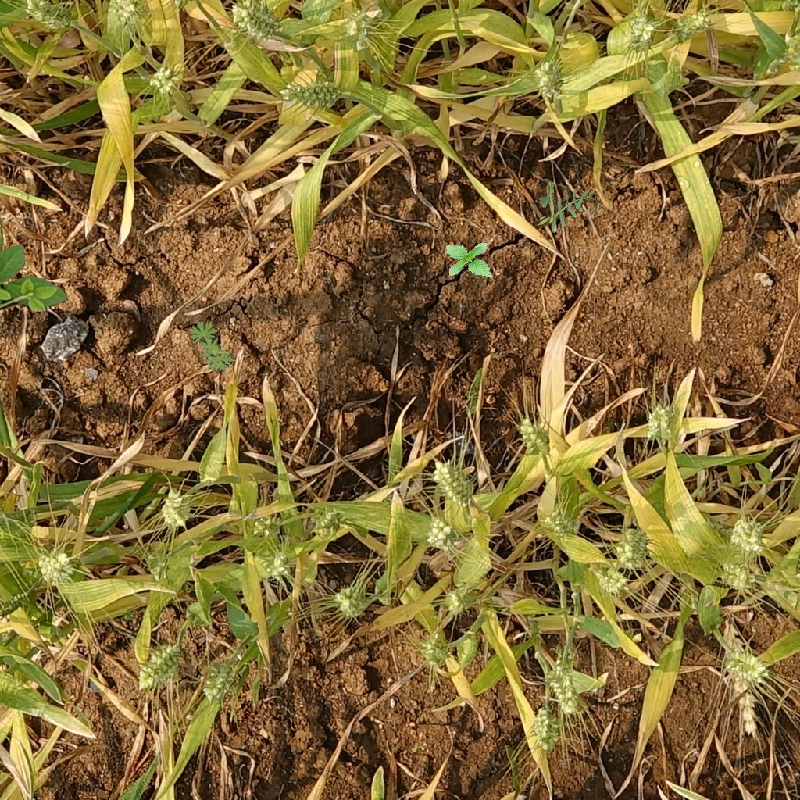spikelet: (135, 640, 182, 691), (278, 76, 339, 111), (545, 660, 583, 714), (229, 1, 279, 41), (200, 652, 240, 701), (432, 458, 475, 503), (722, 646, 770, 684), (338, 6, 376, 52), (21, 1, 76, 31), (34, 546, 76, 585), (727, 515, 767, 555), (157, 487, 194, 530), (614, 525, 650, 568), (516, 415, 552, 457), (332, 581, 370, 619), (733, 680, 758, 737), (532, 57, 565, 100), (308, 503, 347, 539), (671, 5, 710, 41), (543, 502, 579, 540), (416, 628, 451, 667), (262, 542, 297, 581), (625, 7, 658, 48), (644, 402, 676, 444), (531, 704, 560, 749), (591, 561, 628, 596), (718, 559, 757, 592), (423, 514, 458, 550), (145, 63, 181, 98), (442, 584, 477, 616), (106, 1, 143, 29), (250, 512, 283, 540), (781, 28, 799, 71)
weed: (1, 235, 70, 326), (439, 231, 500, 292), (183, 315, 243, 374), (537, 181, 603, 233)
